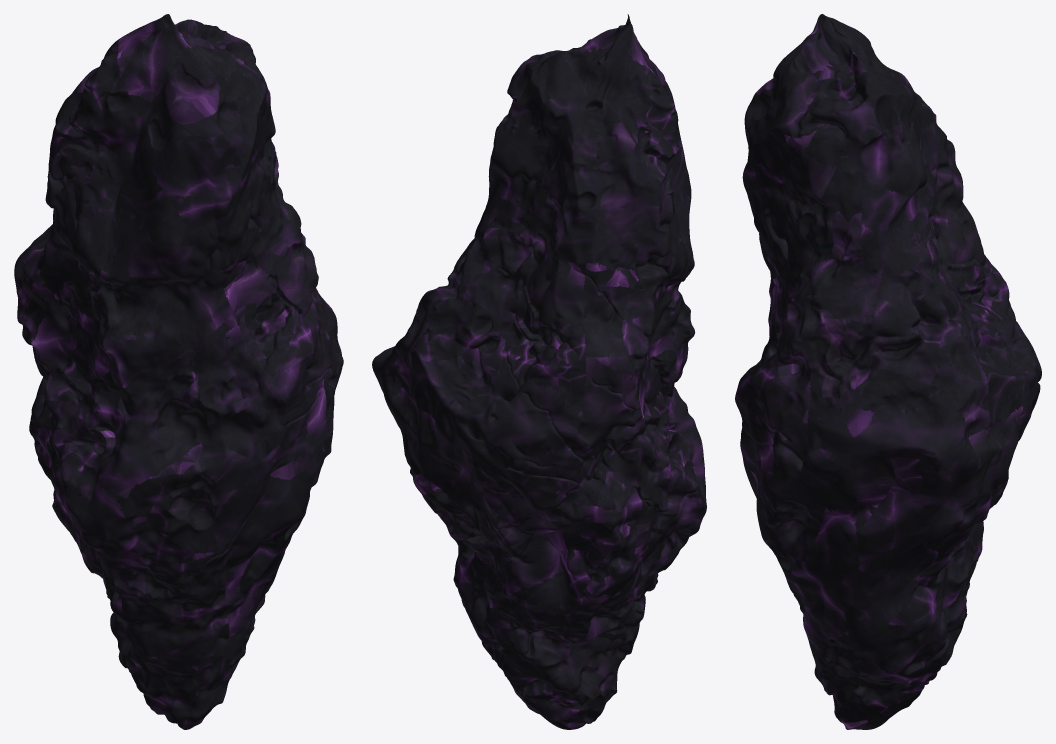
Rendered from shard-02.glb.
3 renders of one model, left to right at view 1: azimuth 30°, elevation 25°; view 2: azimuth 150°, elevation 25°; view 3: azimuth 270°, elevation 25°, orthographic. The views are drawn at different scales.
Visible parts, largest first — view 1: Onyx_Shard_Web; view 2: Onyx_Shard_Web; view 3: Onyx_Shard_Web.
Boxes of the visible parts, x1,y1,x2,y2 form: Onyx_Shard_Web: (14, 14, 343, 729); Onyx_Shard_Web: (372, 14, 706, 729); Onyx_Shard_Web: (735, 14, 1041, 729).
Bounding box in the file's own units: 0.8137 × 1.95 × 0.7748.
Materials: 1 (1 with a texture image).
